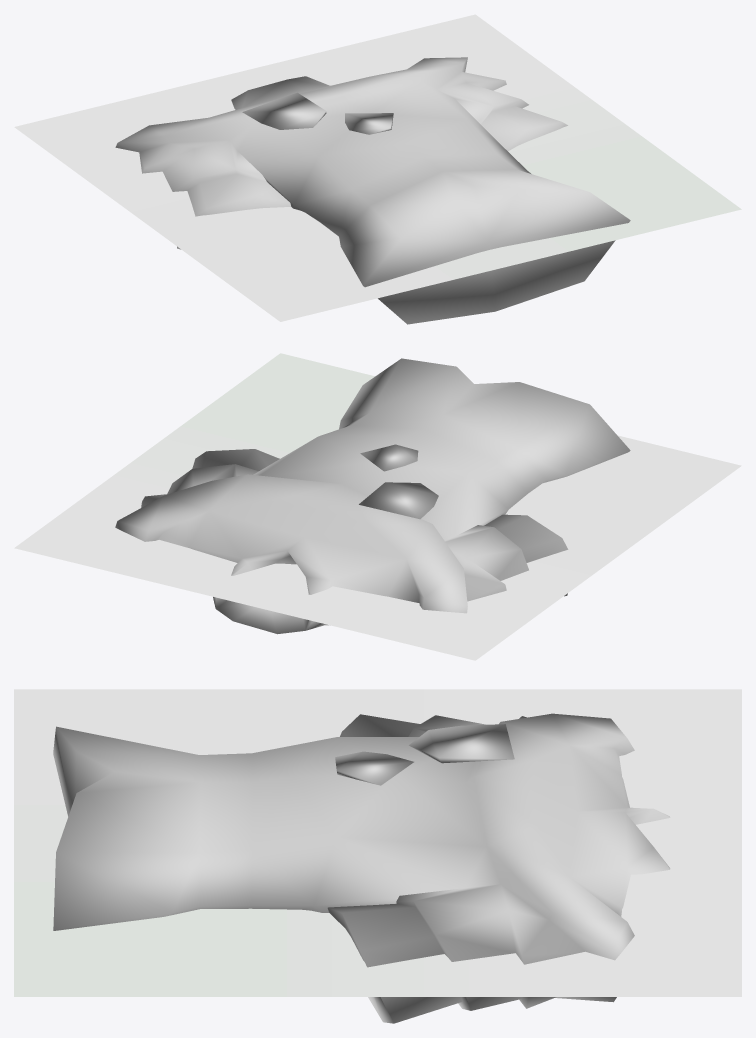
Rendered from ITAR_MIL_W1.glb.
3 renders of one model, top to bottom at view 1: azimuth 30°, elevation 25°; view 2: azimuth 150°, elevation 25°; view 3: azimuth 270°, elevation 25°, orthographic. The views are drawn at different scales.
Visible parts, largest first — view 1: Mesh; view 2: Mesh; view 3: Mesh.
Part boxes in pixels (x1,y1,x2,y2): Mesh: [14, 14, 741, 324]; Mesh: [14, 353, 741, 660]; Mesh: [14, 689, 741, 1023].
Size of the model in its own units: 0.8156 by 0.1868 by 0.8156.
Materials: 2 (1 with a texture image).
